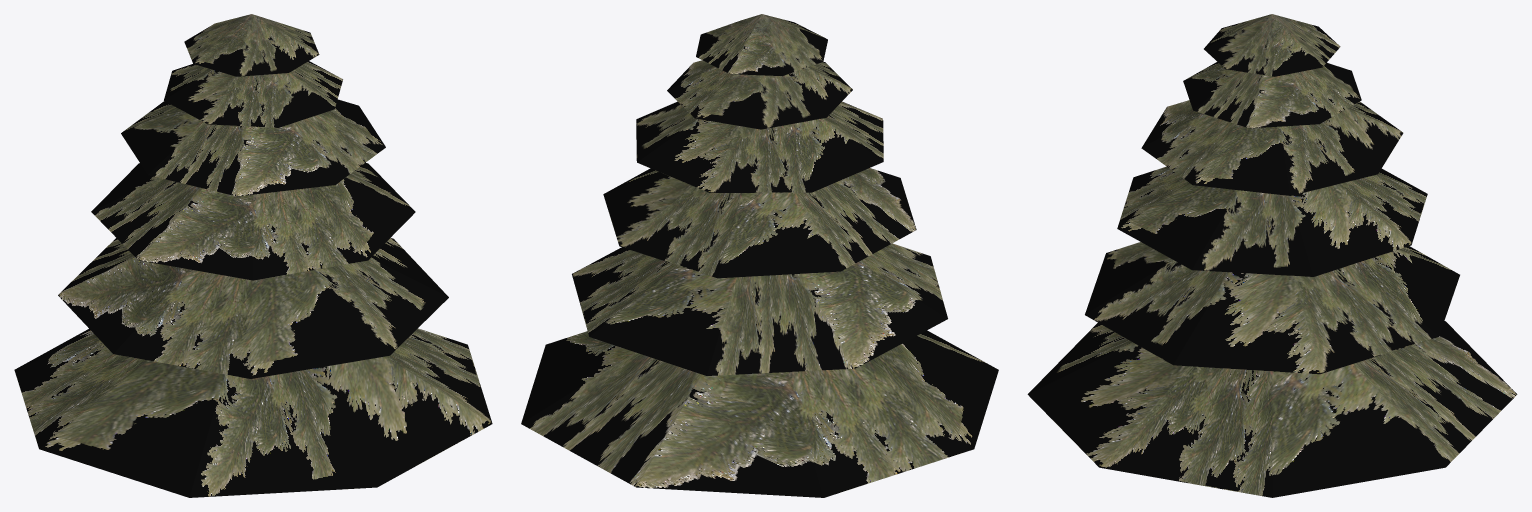
The model's file is tree.glb.
3 renders of one model, left to right at view 1: azimuth 30°, elevation 25°; view 2: azimuth 150°, elevation 25°; view 3: azimuth 270°, elevation 25°, orthographic.
Visible parts, largest first — view 1: Circle.005; view 2: Circle.005; view 3: Circle.005.
Part boxes in pixels (x1=…): Circle.005: x1=14, y1=14, x2=492, y2=497; Circle.005: x1=521, y1=14, x2=998, y2=497; Circle.005: x1=1027, y1=14, x2=1517, y2=497.
Bounding box in the file's own units: 2 × 2.02 × 2.
Materials: 2 (2 with a texture image).
